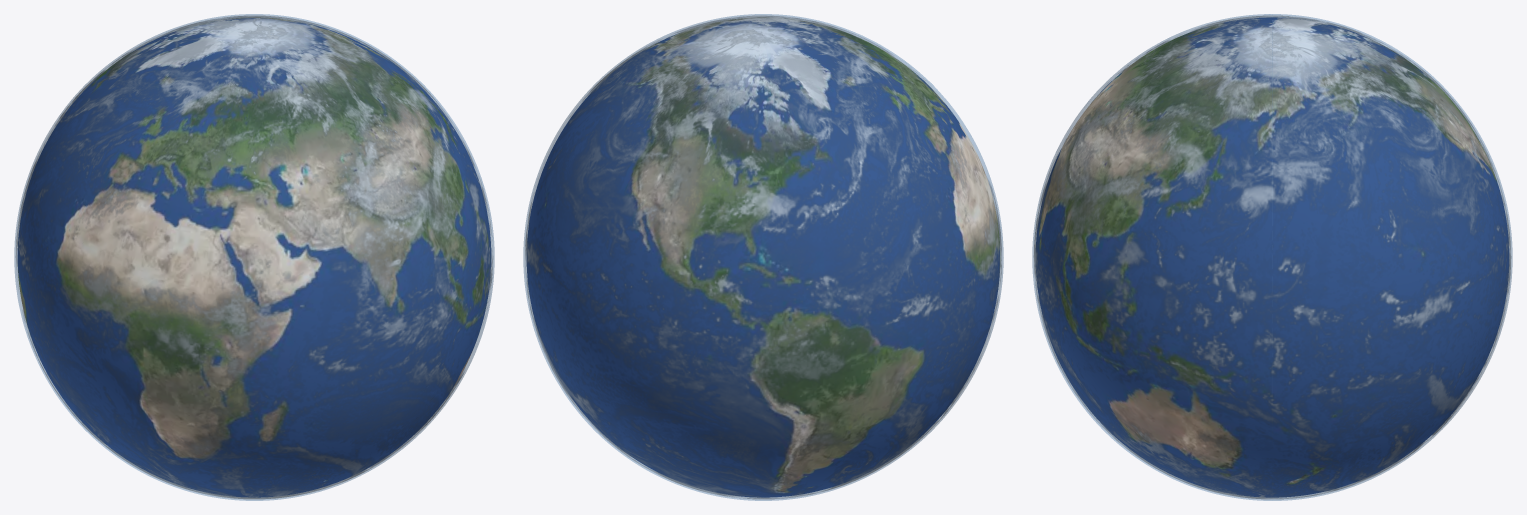
Rendered from earth.glb.
3 renders of one model, left to right at view 1: azimuth 30°, elevation 25°; view 2: azimuth 150°, elevation 25°; view 3: azimuth 270°, elevation 25°, orthographic.
Parts seen in each view (by area): view 1: pSphere5_lambert7_0, pSphere1_phong1_0, pSphere4_lambert6_0; view 2: pSphere5_lambert7_0, pSphere1_phong1_0, pSphere4_lambert6_0; view 3: pSphere5_lambert7_0, pSphere1_phong1_0, pSphere4_lambert6_0.
Boxes of the visible parts, box(x1,y1,x2,y2) form: pSphere5_lambert7_0: box(14, 14, 494, 500); pSphere1_phong1_0: box(17, 17, 491, 497); pSphere4_lambert6_0: box(16, 15, 492, 499); pSphere5_lambert7_0: box(523, 14, 1003, 500); pSphere1_phong1_0: box(526, 17, 1000, 497); pSphere4_lambert6_0: box(525, 15, 1001, 499); pSphere5_lambert7_0: box(1032, 14, 1512, 500); pSphere1_phong1_0: box(1035, 17, 1509, 497); pSphere4_lambert6_0: box(1034, 15, 1510, 499).
Bounding box in the file's own units: 192 × 196 × 192.
3 materials, 2 textured.
